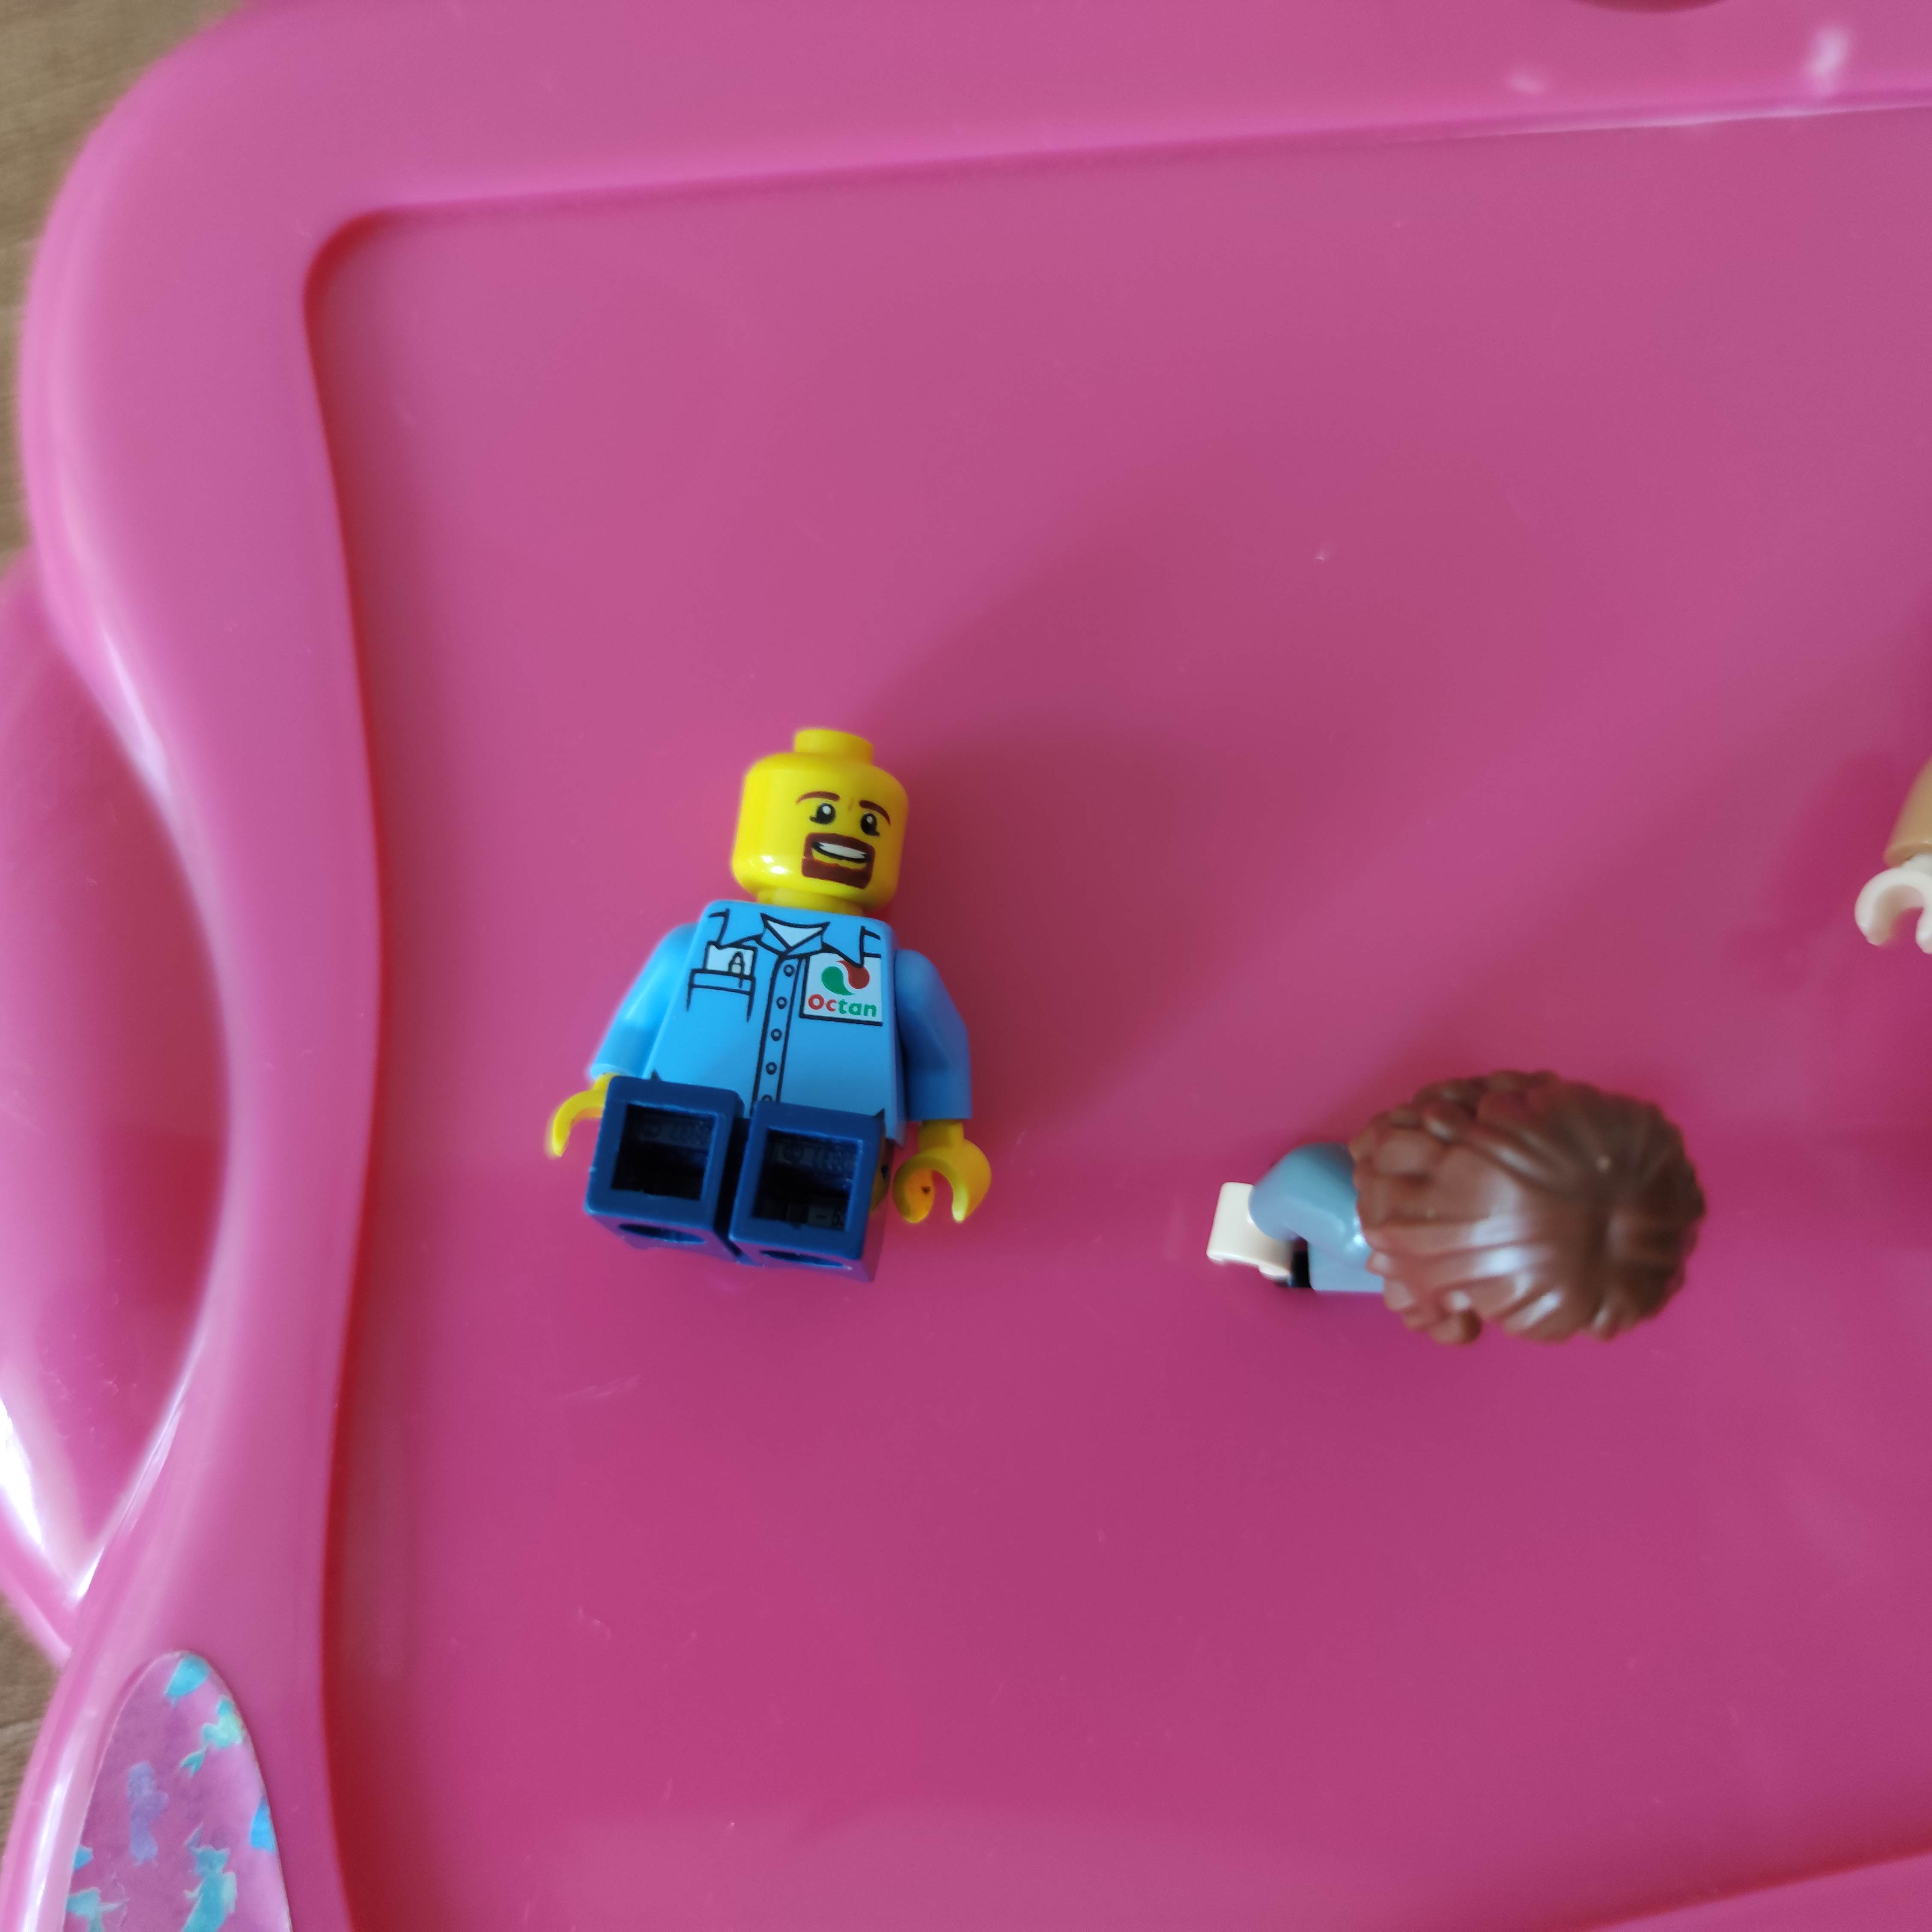lego: (554, 729, 1000, 1288), (1210, 1069, 1707, 1352)
